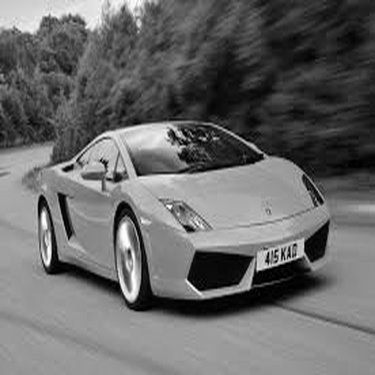car: (27, 115, 337, 316)
